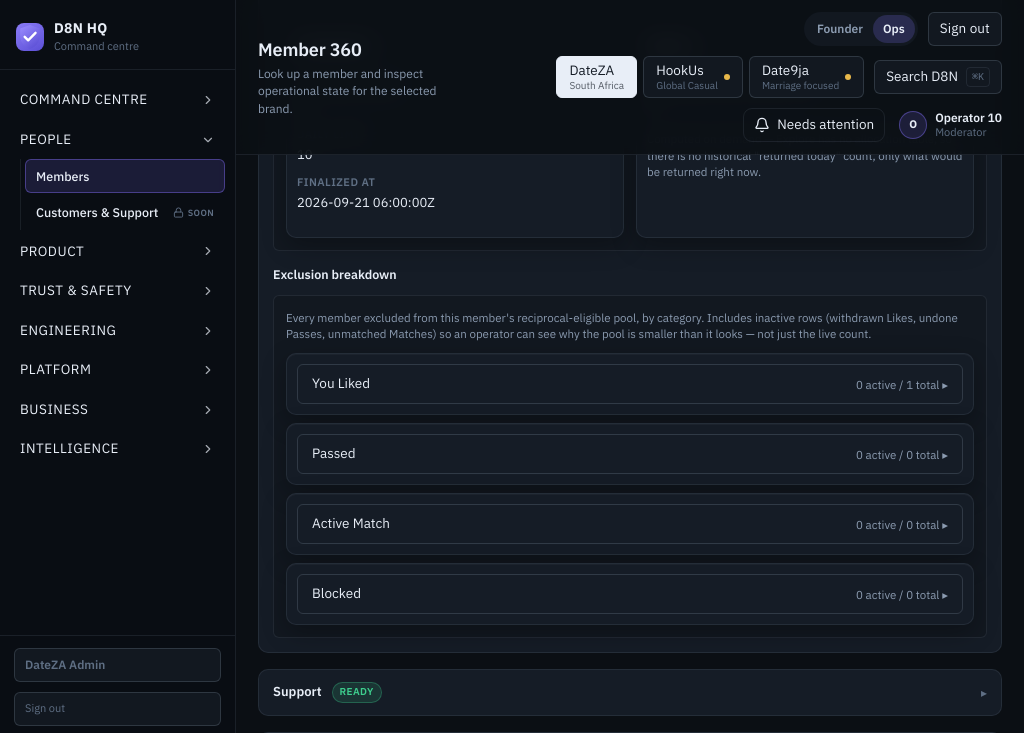
Scenario: D8N HQ Phase 1 integration › renders the exclusion breakdown and today's allocation/availability using allocated/returned vocabulary
The width and height of the screenshot is (1024, 733).
(page scrolled)
Expected: the text "Allocated today" is shown, left=297, top=80, right=402, bottom=94
Expected: the text "Returned right now (live)" is shown, left=647, top=80, right=814, bottom=94
Click the button "You Liked 0 active / 1 total ▸" at point(341, 383), box left=297, top=364, right=963, bottom=404
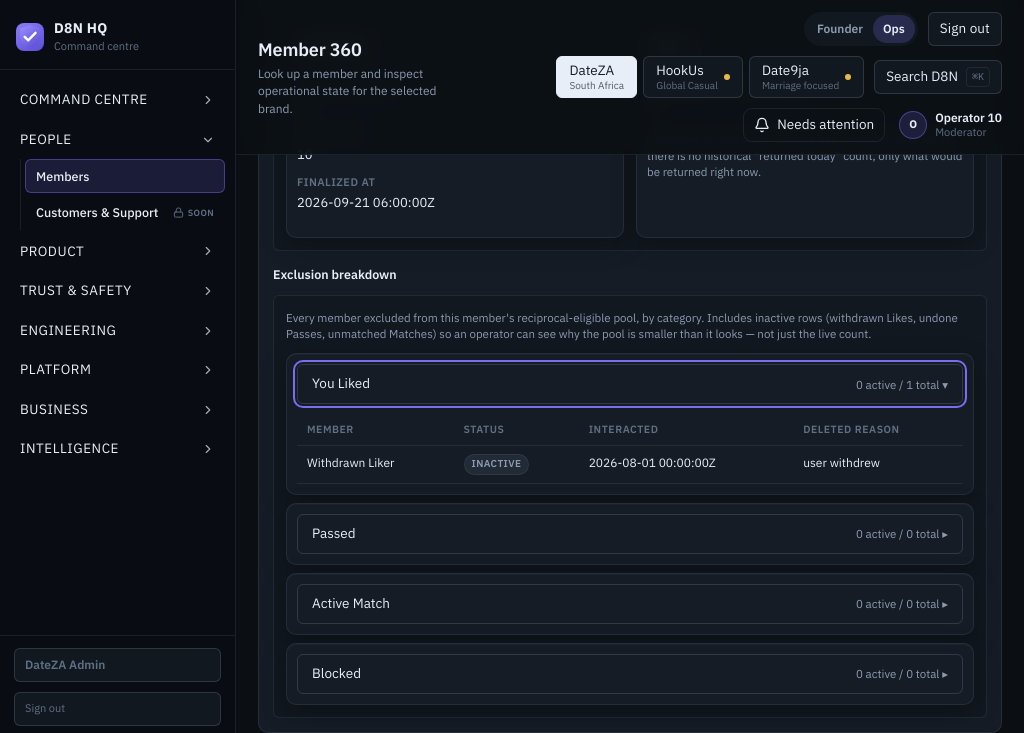
Result: the text "Withdrawn Liker" is shown at left=307, top=455, right=394, bottom=470
Result: the text "Inactive" is shown at left=472, top=457, right=521, bottom=470
Result: the text "user withdrew" is shown at left=803, top=455, right=880, bottom=470
